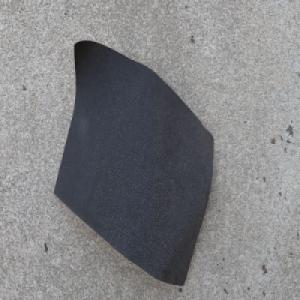PaintChip: (52, 38, 214, 287)
